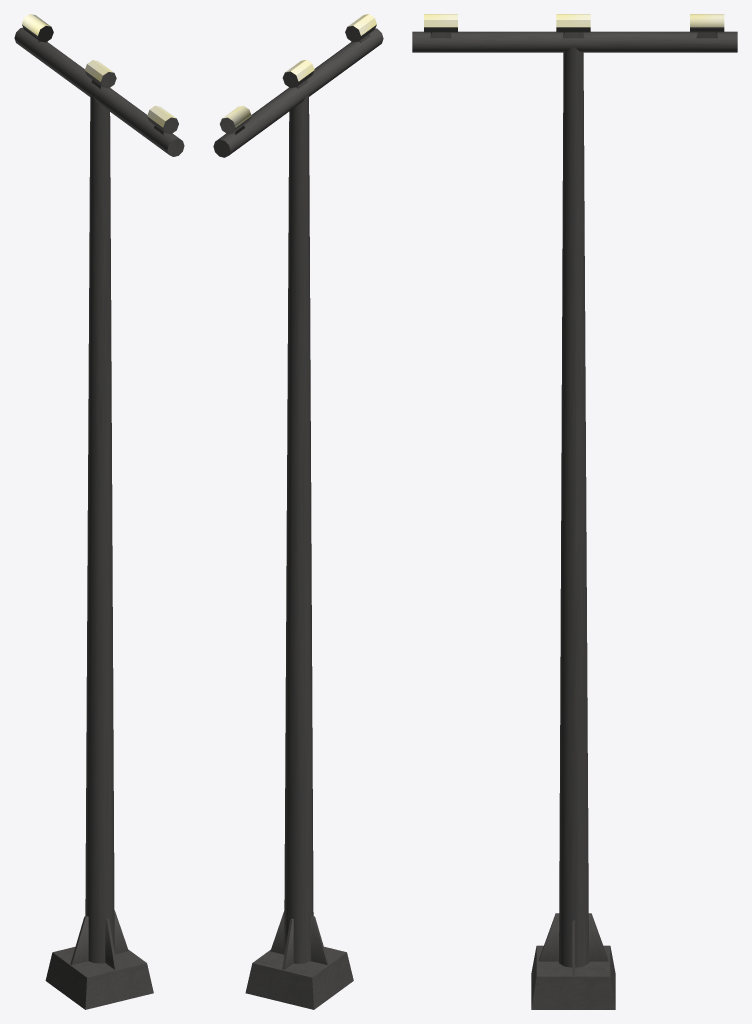
The model's file is air_lampost_a.FBX.
3 views of the same model, side by side, from view 1: azimuth 30°, elevation 25°; view 2: azimuth 150°, elevation 25°; view 3: azimuth 270°, elevation 25° (orthographic). The views are drawn at different scales.
Visible parts, largest first — view 1: air_lampost_a, lamp01; view 2: air_lampost_a, lamp01; view 3: air_lampost_a, lamp01.
Part boxes in pixels (<box>): air_lampost_a: <box>14,14,184,1009</box>; lamp01: <box>84,60,116,88</box>; air_lampost_a: <box>213,14,383,1009</box>; lamp01: <box>282,59,314,88</box>; air_lampost_a: <box>412,14,737,1009</box>; lamp01: <box>556,14,590,38</box>.
Size of the model in its own units: 1.04 by 13.28 by 4.
Materials: 2 (2 with a texture image).
